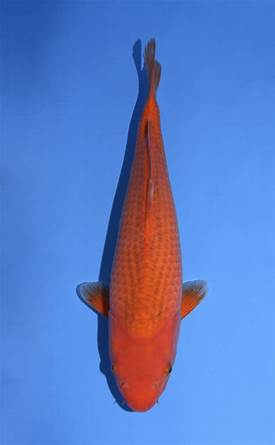red: (76, 38, 209, 415)
